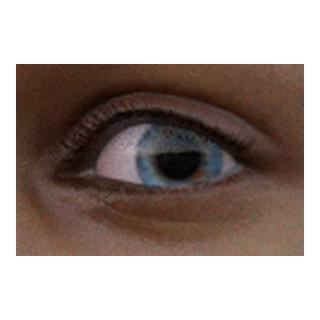pupil: (158, 137, 201, 180)
